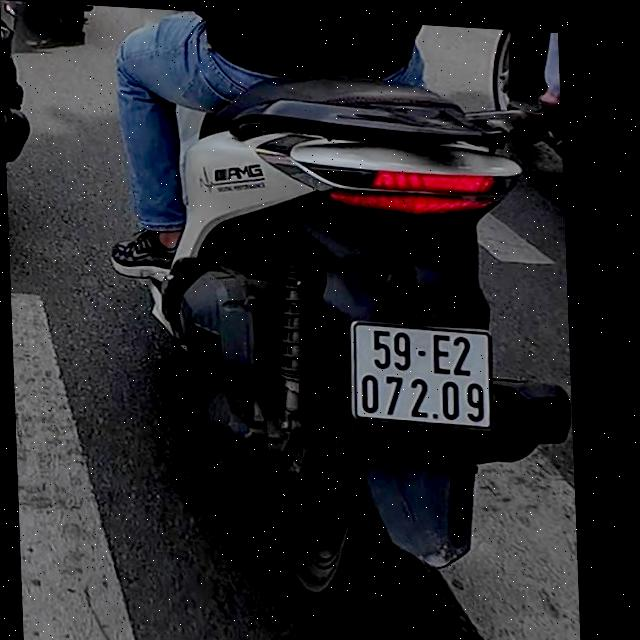motorcycle: (144, 62, 580, 640)
plate: (348, 312, 496, 435)
